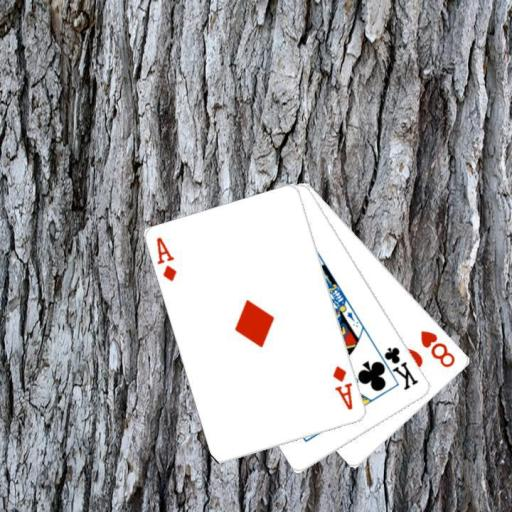8H: (418, 327, 458, 369)
AD: (330, 363, 355, 412), (154, 234, 179, 283)
KC: (373, 344, 420, 392)
